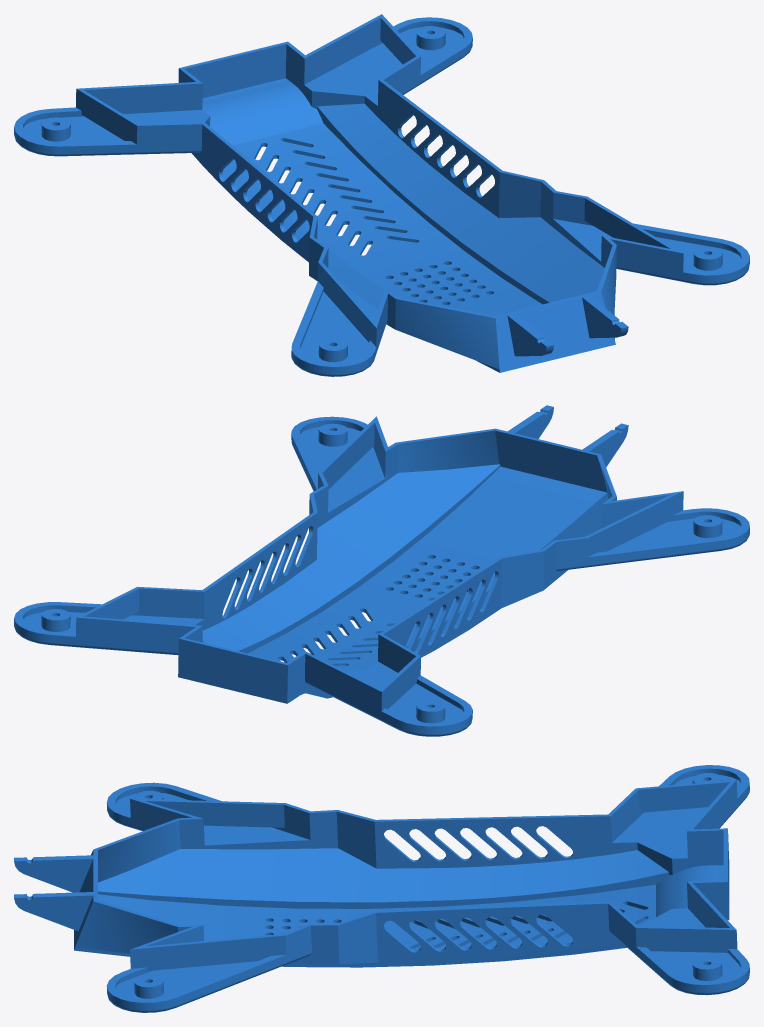
Rendered from Main_Frame_MIR.glb.
3 views of the same model, one above another, from view 1: azimuth 30°, elevation 25°; view 2: azimuth 150°, elevation 25°; view 3: azimuth 270°, elevation 25° (orthographic).
Parts seen in each view (by area): view 1: Solid1.006; view 2: Solid1.006; view 3: Solid1.006.
Part boxes in pixels (x1,y1,x2,y2): Solid1.006: (14, 14, 749, 376); Solid1.006: (14, 405, 749, 736); Solid1.006: (14, 765, 749, 1012).
Bounding box in the file's own units: 0.123 × 0.022 × 0.1739.
